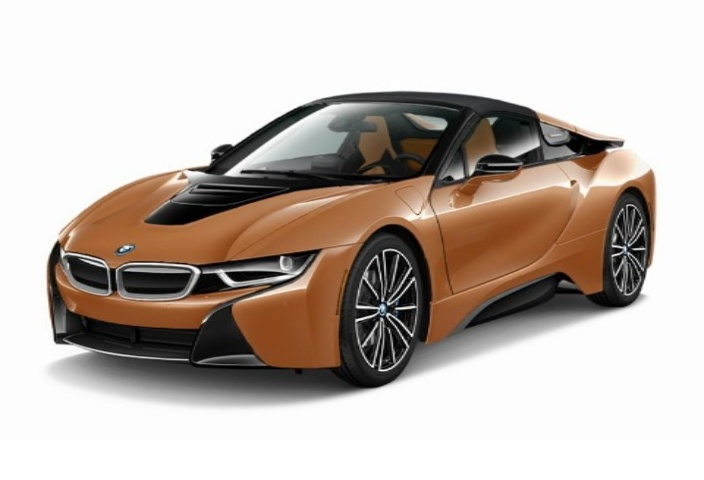car: (60, 58, 664, 391)
